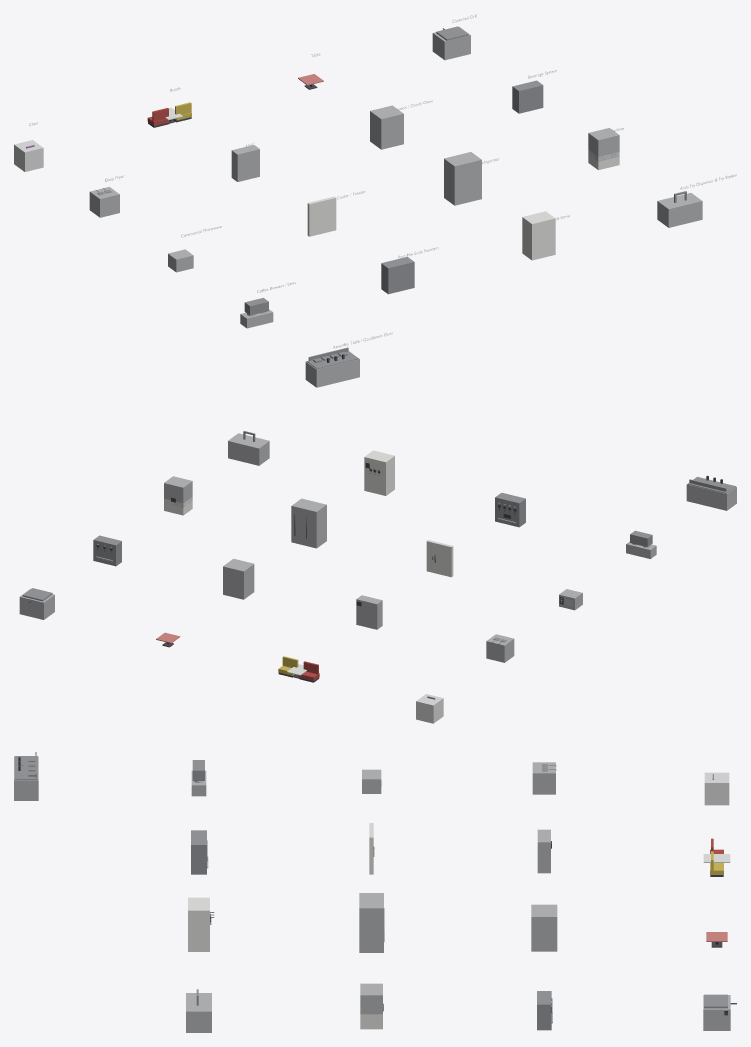
The model's file is appliances.glb.
3 renders of one model, top to bottom at view 1: azimuth 30°, elevation 25°; view 2: azimuth 150°, elevation 25°; view 3: azimuth 270°, elevation 25°, orthographic. The views are drawn at different scales.
Visible parts, largest first — view 1: Body.004, Body.005, Body.001, Counter, MainBody, Base.003, Frame, Cabinet.001, Body.002, UpperMaker, Body, Cube (+1 smaller); view 2: Body.004, Body.005, Body.001, Counter, Base.003, Frame, MainBody, Cabinet.001, Body.002, Body, UpperMaker, Cube (+1 smaller); view 3: Body.004, Body.001, Body.005, Counter, Cube, Cabinet, UpperMaker, MainBody, Body, Cabinet.001, Body.002, Base.003 (+1 smaller).
Part boxes in pixels (bbox=[...]): Body.004: bbox=[444, 152, 481, 205]; Body.005: bbox=[522, 211, 555, 260]; Body.001: bbox=[370, 105, 403, 149]; Counter: bbox=[657, 193, 702, 227]; MainBody: bbox=[381, 257, 414, 294]; Base.003: bbox=[305, 359, 359, 387]; Frame: bbox=[307, 196, 336, 236]; Cabinet.001: bbox=[231, 145, 259, 181]; Body.002: bbox=[512, 80, 543, 113]; UpperMaker: bbox=[588, 128, 619, 161]; Body: bbox=[432, 26, 470, 60]; Cube: bbox=[14, 140, 43, 171]; Body.004: bbox=[291, 498, 326, 548]; Body.005: bbox=[364, 450, 394, 495]; Body.001: bbox=[223, 558, 254, 599]; Counter: bbox=[228, 433, 269, 465]; Base.003: bbox=[686, 484, 736, 510]; Frame: bbox=[426, 540, 453, 577]; MainBody: bbox=[495, 492, 525, 527]; Cabinet.001: bbox=[356, 595, 382, 629]; Body.002: bbox=[93, 535, 121, 566]; Body: bbox=[19, 588, 54, 619]; UpperMaker: bbox=[164, 476, 192, 507]; Cube: bbox=[416, 694, 443, 723]; Body.004: bbox=[359, 893, 383, 952]; Body.001: bbox=[531, 904, 557, 951]; Body.005: bbox=[188, 897, 209, 951]; Counter: bbox=[186, 993, 211, 1032]; Cube: bbox=[704, 772, 729, 805]; Cabinet: bbox=[532, 762, 555, 794]; UpperMaker: bbox=[360, 983, 382, 1016]; MainBody: bbox=[191, 830, 206, 874]; Body: bbox=[703, 995, 730, 1030]; Cabinet.001: bbox=[537, 829, 550, 873]; Body.002: bbox=[537, 991, 551, 1030]; Base.003: bbox=[14, 756, 38, 800].
Size of the model in its own units: 53.36 by 5 by 58.62.
